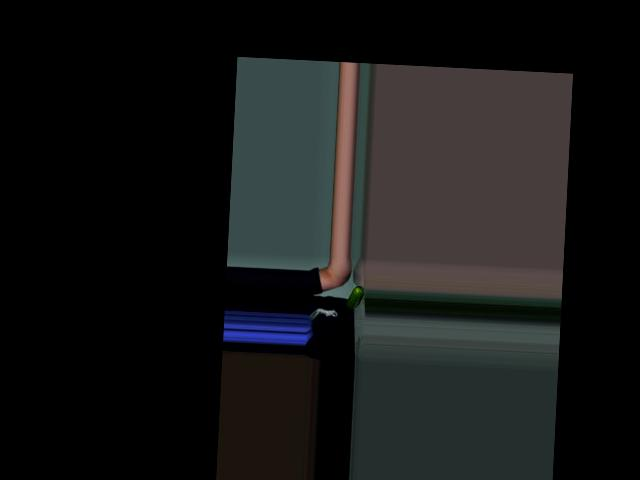cucumber: (346, 285, 365, 309)
